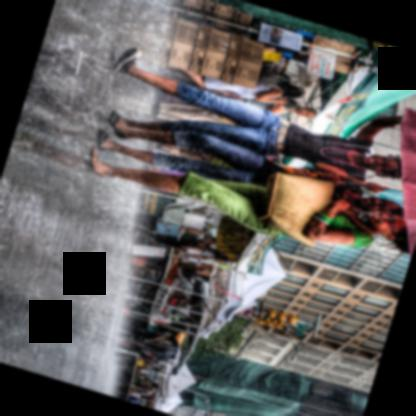handbag: (262, 170, 361, 249)
